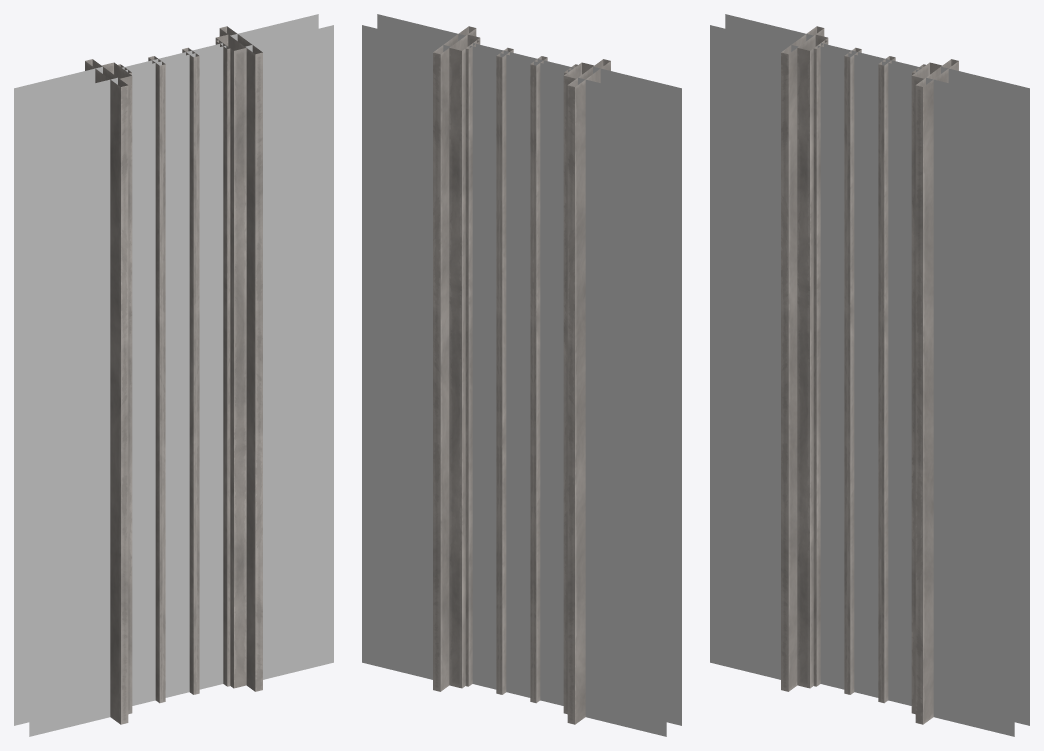
Rendered from Wall_Window_C_D.fbx.
3 views of the same model, side by side, from view 1: azimuth 30°, elevation 25°; view 2: azimuth 150°, elevation 25°; view 3: azimuth 330°, elevation 25° (orthographic).
Visible parts, largest first — view 1: Wall_Window_C_D; view 2: Wall_Window_C_D; view 3: Wall_Window_C_D.
Boxes of the visible parts, box(x1,y1,x2,y2) form: Wall_Window_C_D: box(14, 14, 333, 736); Wall_Window_C_D: box(362, 14, 681, 736); Wall_Window_C_D: box(710, 14, 1029, 736).
Size of the model in its own units: 3 by 0.6115 by 6.
